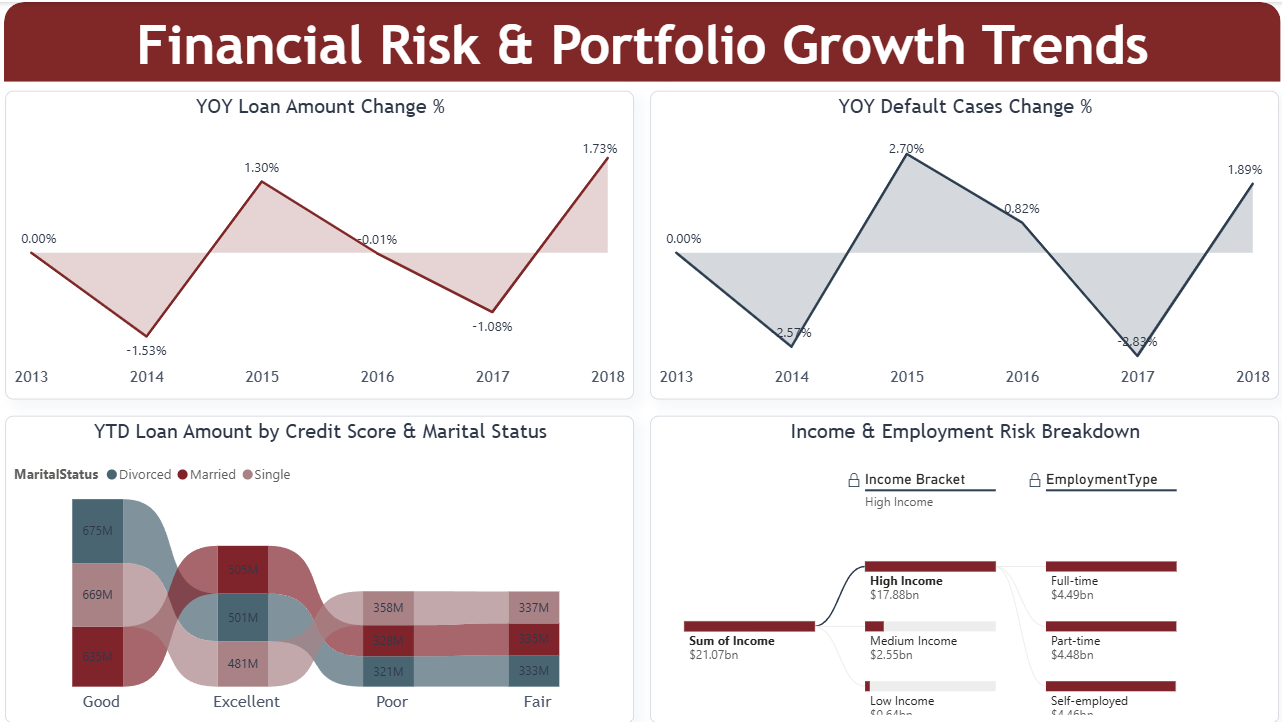

What the dashboard file says about the page in this screenshot:
{"tool":"powerbi","page":{"name":"Financial Risk & Portfolio Growth Trends","canvas":[1280,720],"ordinal":3},"visuals":[{"type":"shape","box":[4.7,0,1270.7,79.6],"z":0},{"type":"lineChart","title":"YOY Loan Amount Change %","fields":{"Y":["Measures Table 1.YOY laon amt change by year"],"Category":["Loan_default.Year"]},"box":[5.7,88.6,625.7,307.1],"z":1000},{"type":"lineChart","title":"YOY Default Cases Change %","fields":{"Category":["Loan_default.Year"],"Y":["Measures Table 1.YOY Default amt change by year"]},"box":[648.6,88.6,625.7,307.1],"z":2000},{"type":"ribbonChart","title":"YTD Loan Amount by Credit Score & Marital Status","fields":{"Y":["Measures Table 1.YTD loan amount"],"Category":["Loan_default.Credit Score Bin"],"Series":["Loan_default.MaritalStatus"]},"box":[5.7,411.4,625.7,307.1],"z":3000},{"type":"decompositionTreeVisual","title":"Income & Employment Risk Breakdown","fields":{"Analyze":["Sum(Loan_default.Income)"],"ExplainBy":["Loan_default.Income Bracket","Loan_default.EmploymentType"]},"box":[648.6,411.4,625.7,307.1],"z":4000}]}

Visuals, with their boxes in screenshot pixels (x1, y1, x2, y2), scaled from the page's 1280x720 canvas onto the 1282x722 screenshot:
shape: <region>5, 0, 1277, 80</region>
"YOY Loan Amount Change %" lineChart: <region>6, 89, 632, 397</region>
"YOY Default Cases Change %" lineChart: <region>650, 89, 1276, 397</region>
"YTD Loan Amount by Credit Score & Marital Status" ribbonChart: <region>6, 413, 632, 720</region>
"Income & Employment Risk Breakdown" decompositionTreeVisual: <region>650, 413, 1276, 720</region>
